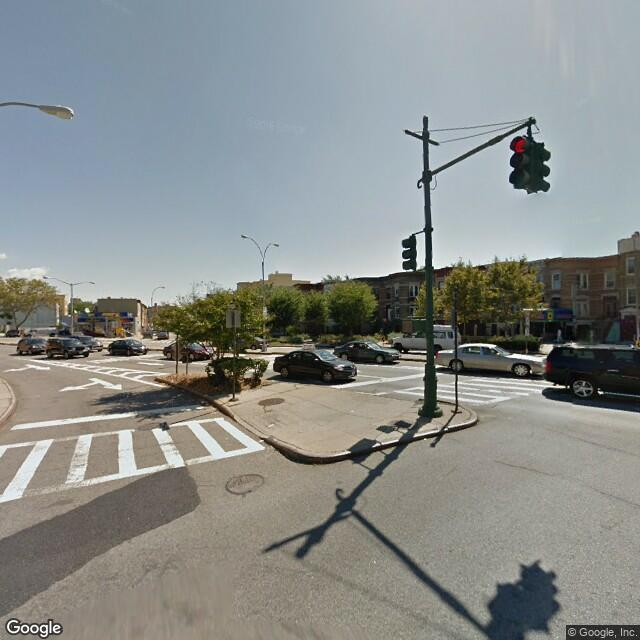litter: (265, 420, 275, 429), (255, 435, 264, 444), (422, 434, 425, 443)
